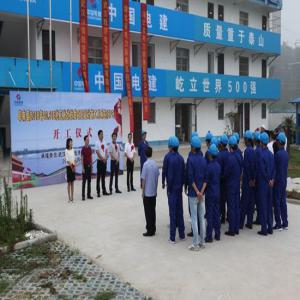blue: (191, 136, 203, 155), (171, 135, 180, 154), (219, 134, 229, 151), (277, 133, 287, 150), (229, 136, 238, 154), (260, 131, 269, 149), (244, 130, 253, 147), (209, 145, 218, 161), (206, 131, 214, 147), (255, 131, 262, 146), (142, 131, 148, 142)
none: (145, 146, 154, 162), (98, 130, 105, 143), (68, 138, 75, 151), (127, 132, 134, 144), (112, 132, 118, 145), (84, 136, 91, 147)
